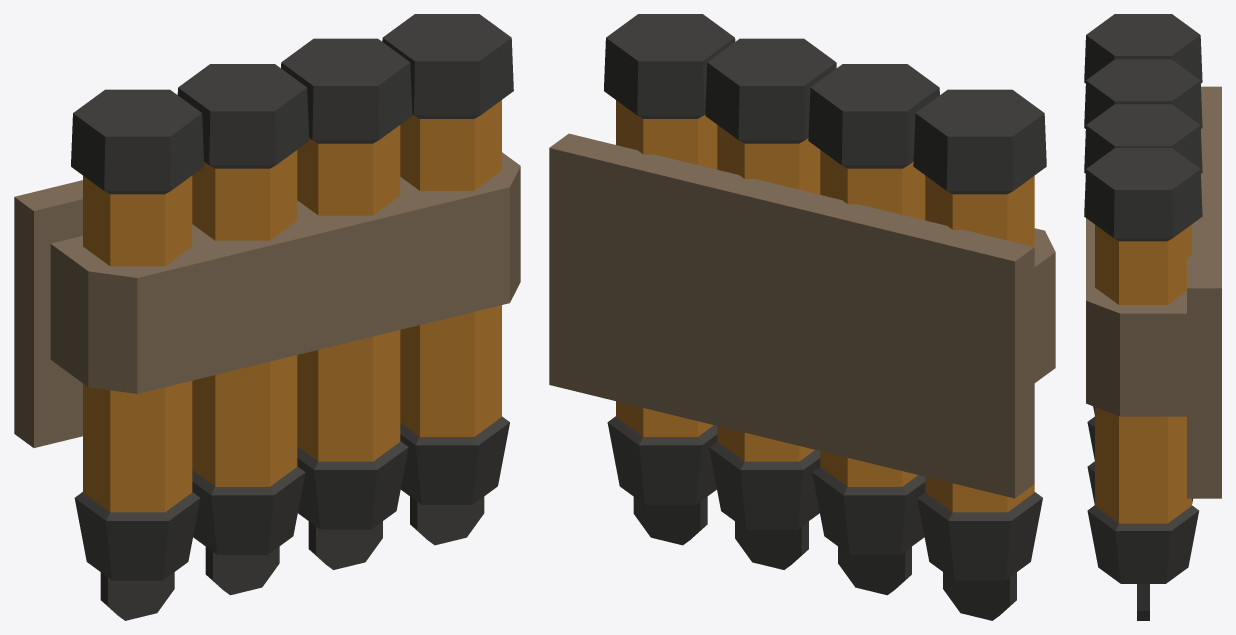
File: GlowStick_02_SM.FBX
The picture shows the model from 3 angles, left to right: view 1: azimuth 30°, elevation 25°; view 2: azimuth 150°, elevation 25°; view 3: azimuth 270°, elevation 25°; orthographic projection. The views are drawn at different scales.
Visible parts, largest first — view 1: GlowStick_02_SM; view 2: GlowStick_02_SM; view 3: GlowStick_02_SM.
Part boxes in pixels (x1,y1,x2,y2): GlowStick_02_SM: (14, 14, 520, 620); GlowStick_02_SM: (549, 14, 1055, 620); GlowStick_02_SM: (1084, 14, 1221, 620).
Size of what is drawn, in the model's own units: 9.41 by 2.71 by 9.68.
